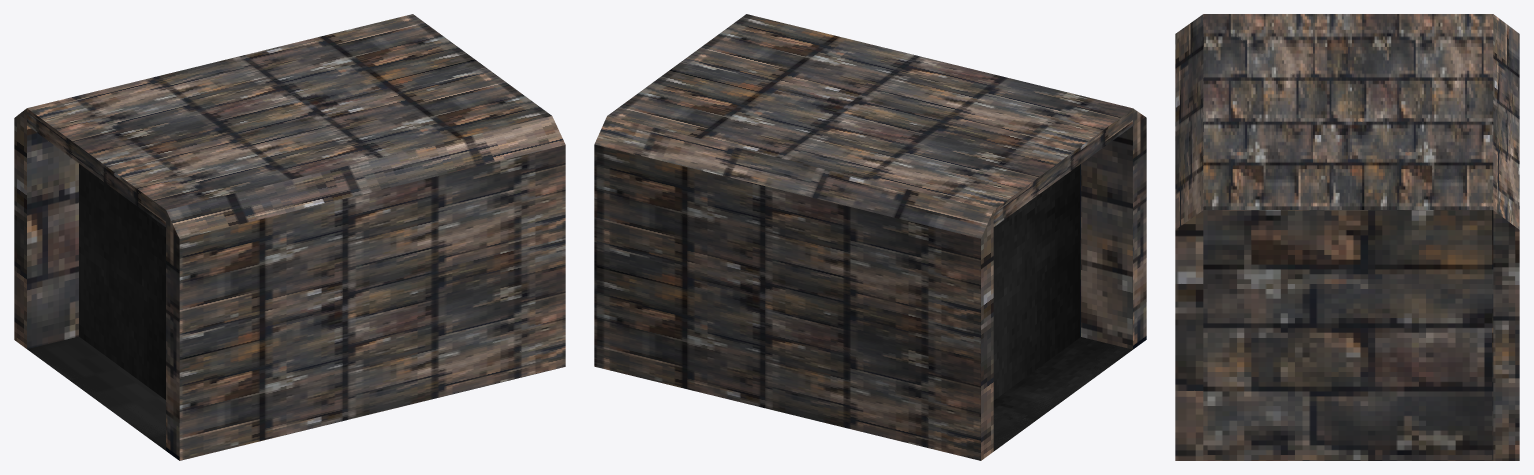
Rendered from tunnel.fbx.
3 renders of one model, left to right at view 1: azimuth 30°, elevation 25°; view 2: azimuth 150°, elevation 25°; view 3: azimuth 270°, elevation 25°, orthographic. The views are drawn at different scales.
Visible parts, largest first — view 1: Cube; view 2: Cube; view 3: Cube.
Part boxes in pixels (x1,y1,x2,y2): Cube: [14, 14, 565, 460]; Cube: [594, 14, 1146, 460]; Cube: [1175, 14, 1519, 460].
Bounding box in the file's own units: 1580 × 942 × 1172.
